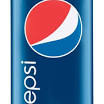pepsi: (11, 1, 91, 104)
